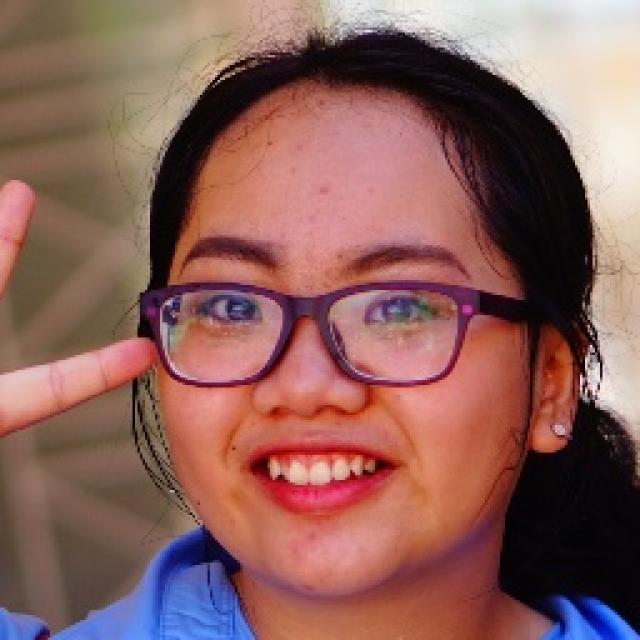earlobe: (526, 404, 568, 456)
eye: (359, 290, 441, 333), (198, 289, 268, 331)
nose: (254, 397, 372, 432)
wholeear: (526, 310, 586, 456)
